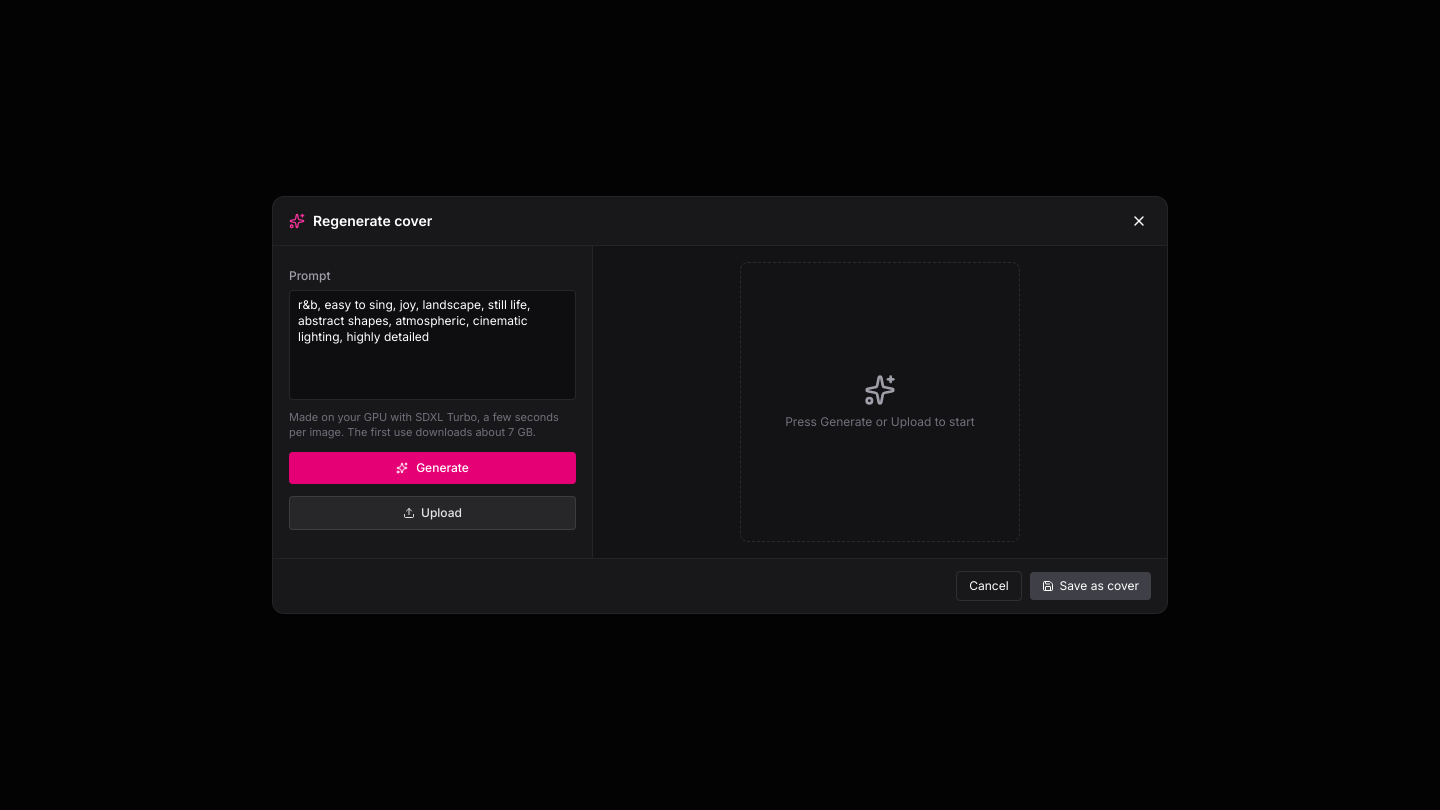
it: CoverRegenModal (local AI cover) › asks the local server for an image and previews it with its seed
The width and height of the screenshot is (1440, 810).
Click the button "Generate" at (432, 468), box [289,452,576,484]
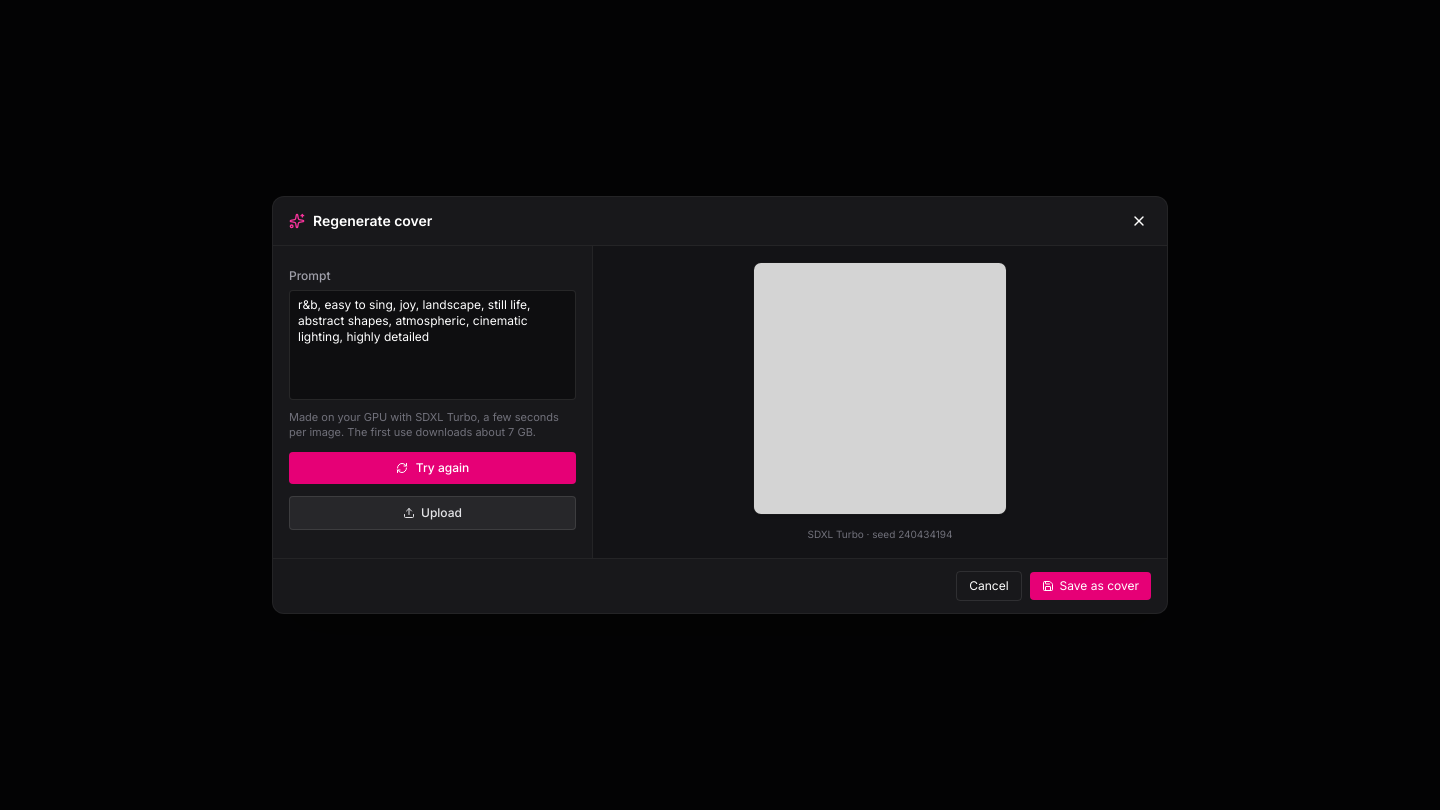
Check: the text "SDXL Turbo · seed" is shown, box [808,528,952,540]
